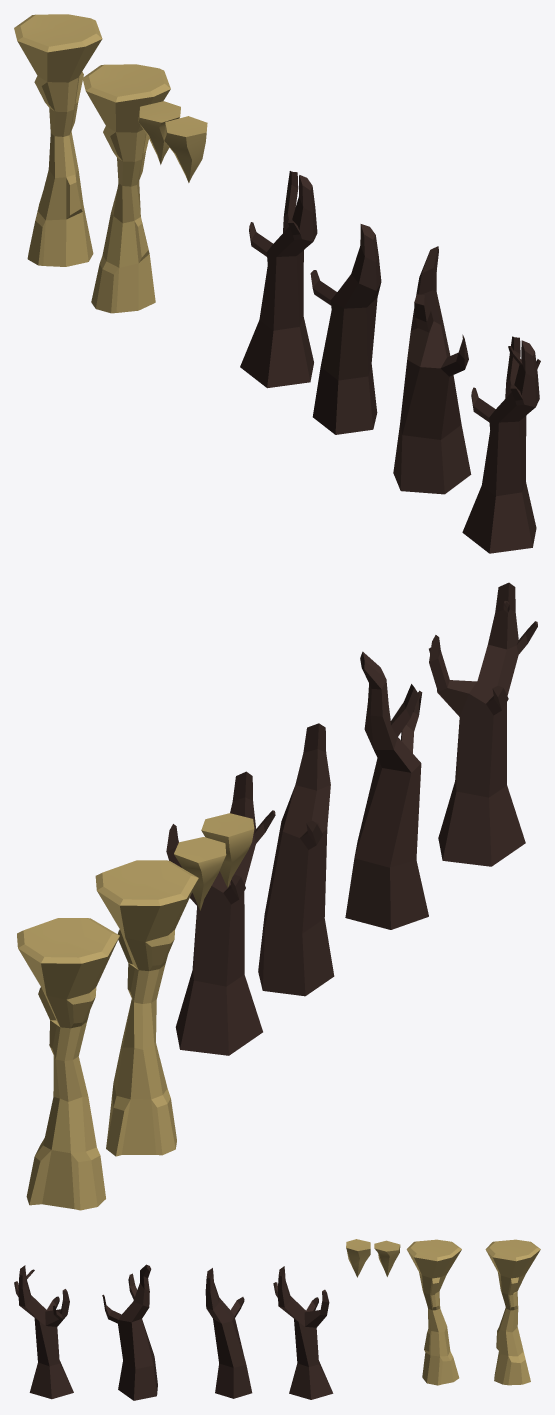
The model's file is Trees_platforms_Kleur.fbx.
3 renders of one model, top to bottom at view 1: azimuth 30°, elevation 25°; view 2: azimuth 150°, elevation 25°; view 3: azimuth 270°, elevation 25°, orthographic. The views are drawn at different scales.
Visible parts, largest first — view 1: pDisc3, pCylinder7, pDisc1, pCylinder9, pCylinder8, pCylinder6, pCone4, pCone3; view 2: pDisc3, pDisc1, pCylinder9, pCylinder7, pCylinder6, pCylinder8, pCone3, pCone4; view 3: pDisc3, pDisc1, pCylinder7, pCylinder9, pCylinder8, pCylinder6, pCone4, pCone3.
Part boxes in pixels (x1,y1,x2,y2): pDisc3: [14, 14, 102, 266]; pCylinder7: [393, 246, 471, 494]; pDisc1: [82, 64, 170, 313]; pCylinder9: [462, 336, 540, 553]; pCylinder8: [240, 171, 317, 388]; pCylinder6: [310, 224, 381, 434]; pCone4: [164, 116, 207, 182]; pCone3: [138, 101, 180, 164]; pDisc3: [17, 918, 119, 1210]; pDisc1: [95, 860, 198, 1156]; pCylinder9: [429, 582, 537, 866]; pCylinder7: [345, 651, 428, 929]; pCylinder6: [258, 723, 334, 996]; pCylinder8: [166, 771, 275, 1055]; pCone3: [174, 837, 226, 910]; pCone4: [201, 813, 254, 887]; pDisc3: [485, 1239, 540, 1385]; pDisc1: [406, 1239, 461, 1385]; pCylinder7: [102, 1264, 157, 1400]; pCylinder9: [14, 1265, 73, 1399]; pCylinder8: [273, 1266, 333, 1399]; pCylinder6: [205, 1268, 252, 1398]; pCone4: [346, 1239, 370, 1277]; pCone3: [374, 1240, 400, 1276].
Bounding box in the file's own units: 2.48 × 4.41 × 16.11.
